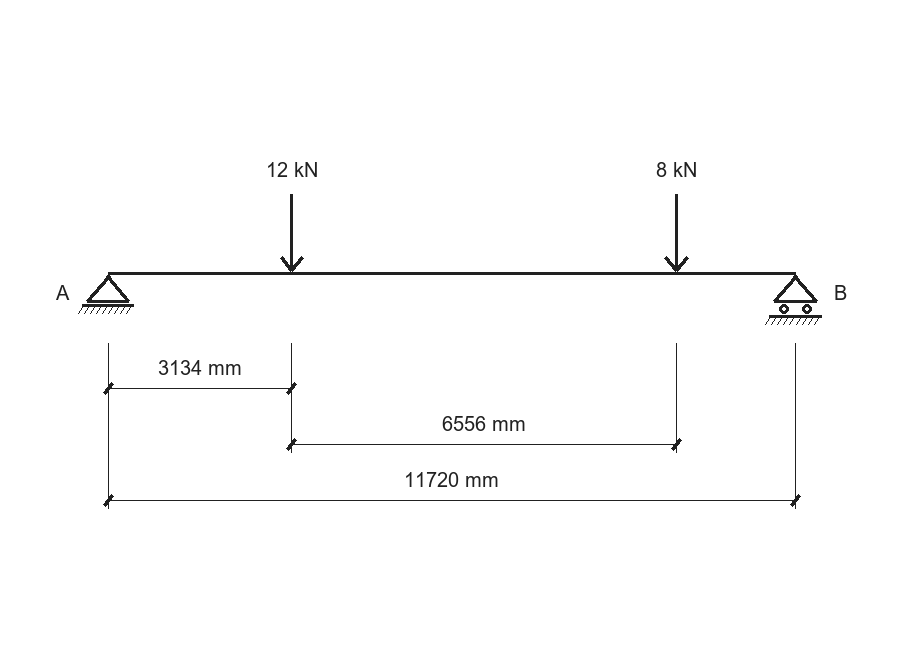pin_support: (78, 275, 134, 314)
point_load: (664, 194, 689, 272), (280, 194, 304, 272)
roller_support: (765, 275, 822, 325)
